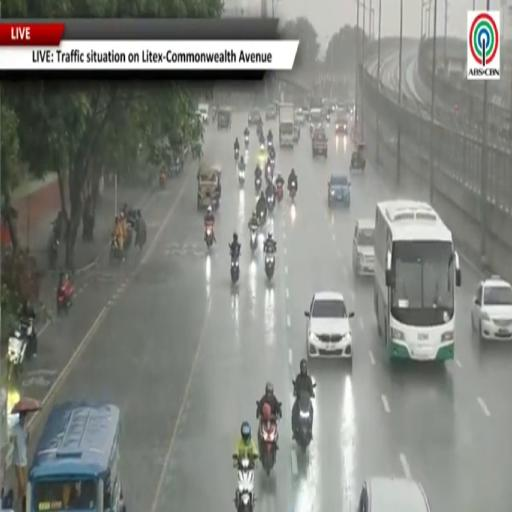bus: (375, 201, 461, 360)
car: (305, 292, 353, 361), (472, 276, 511, 341), (358, 477, 431, 511), (352, 219, 374, 276), (328, 174, 350, 207), (312, 127, 327, 157), (335, 114, 347, 134), (248, 109, 262, 126), (198, 104, 209, 124), (266, 104, 276, 120), (295, 108, 305, 124)
jeepney: (27, 403, 125, 511), (197, 164, 221, 209)
motorcycle: (233, 455, 255, 511), (258, 418, 278, 475), (6, 331, 28, 381), (294, 391, 312, 452), (57, 282, 74, 314), (125, 211, 137, 250), (48, 232, 59, 270), (110, 237, 123, 262), (265, 251, 275, 279), (205, 223, 214, 248), (231, 255, 239, 283), (250, 227, 257, 252), (258, 209, 267, 228), (265, 164, 274, 182), (267, 194, 275, 213), (159, 171, 166, 189), (276, 184, 283, 202), (290, 182, 296, 201), (239, 169, 245, 186), (255, 178, 261, 194), (267, 139, 273, 151), (270, 157, 275, 171), (235, 149, 239, 161), (245, 135, 248, 149)
tricycle: (350, 143, 365, 171)
truck: (279, 103, 294, 147)
